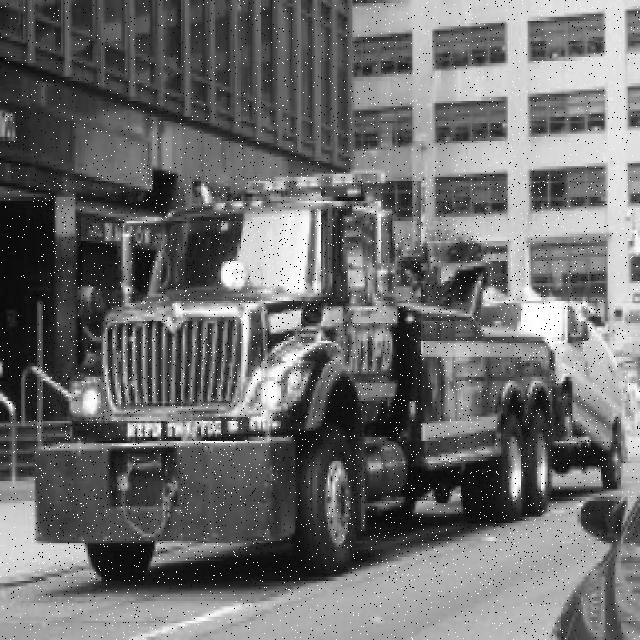Tow Truck: (34, 174, 606, 583)
